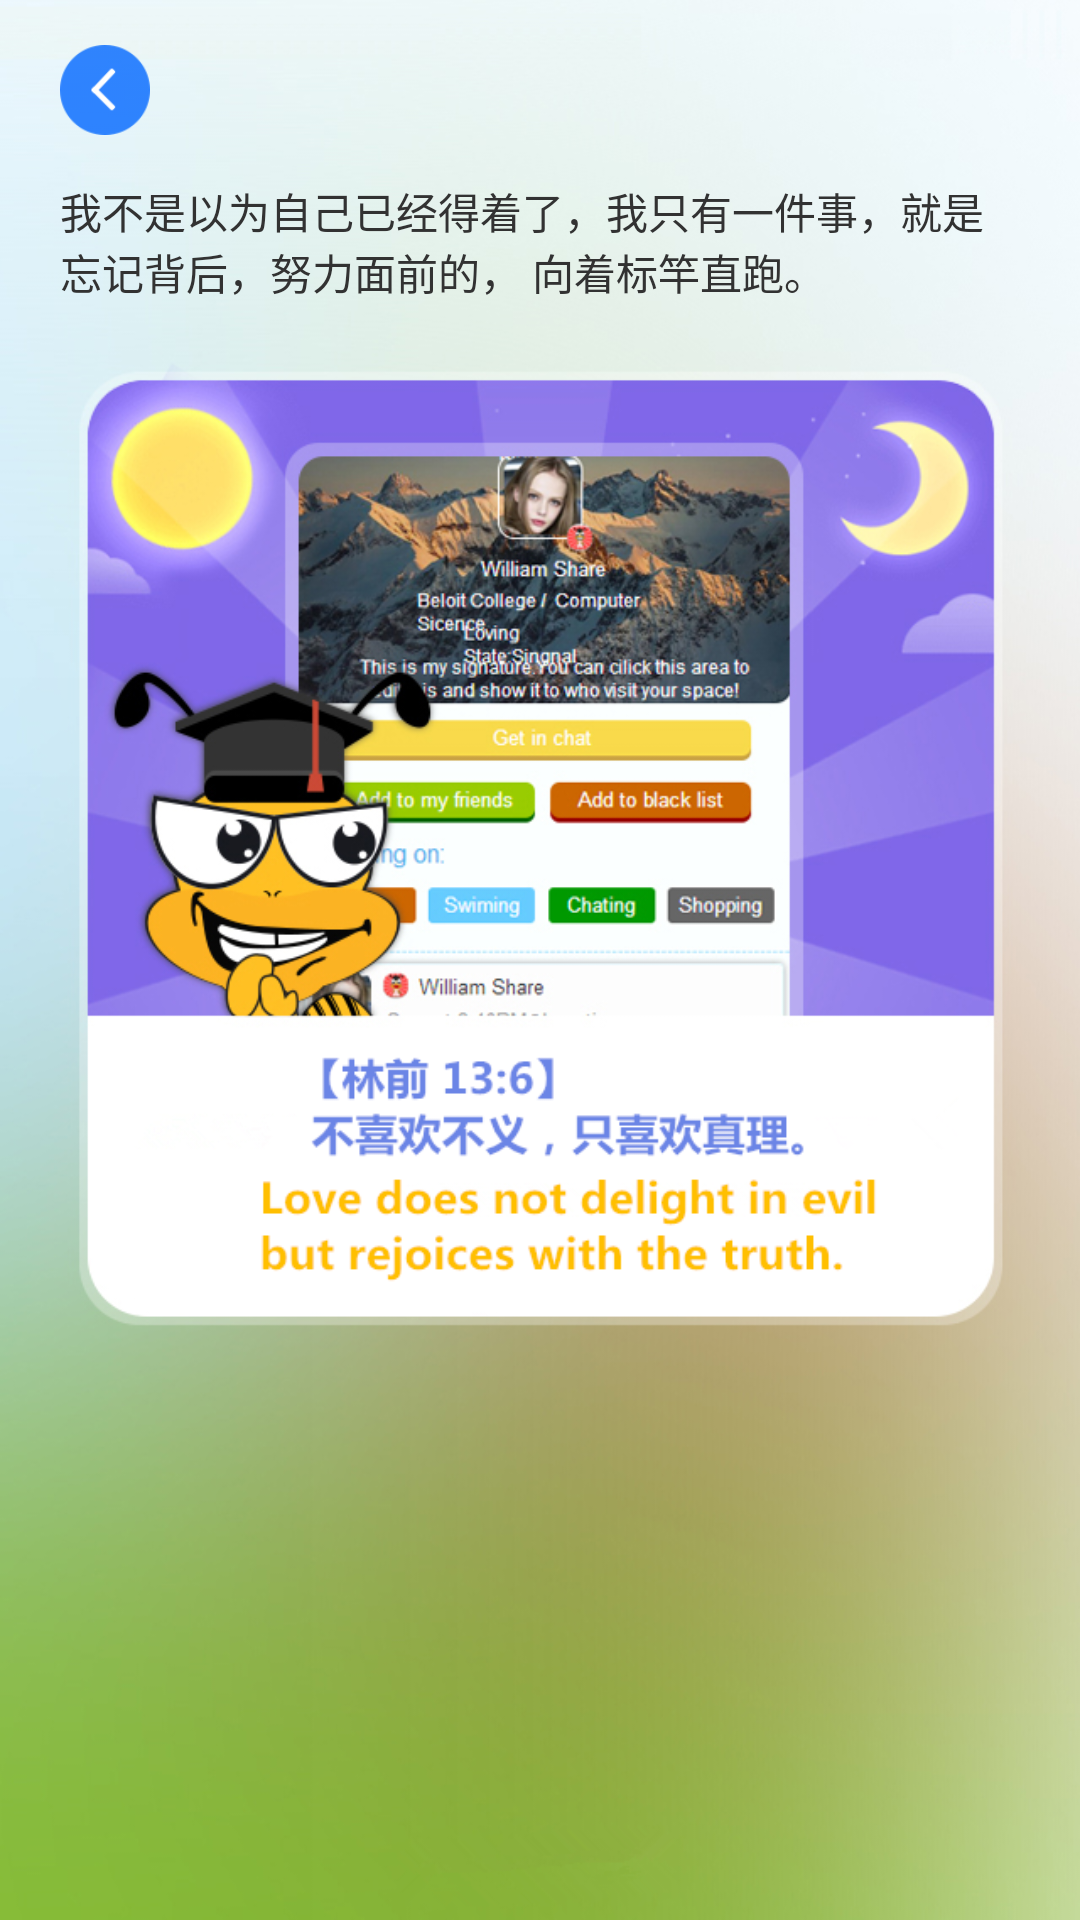

Named icons in this screenshot (1080x1920) and their centers, (x=x, y=y):
return float: (x=105, y=90)
